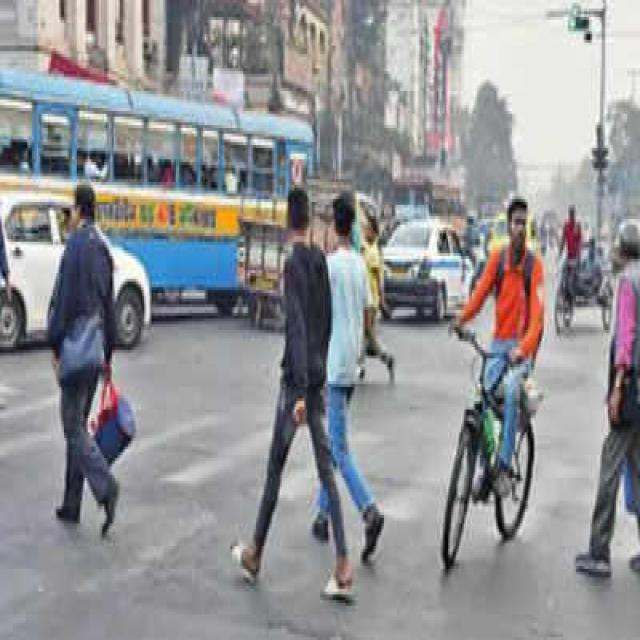bicycle: (441, 198, 545, 568)
bus: (0, 70, 314, 310)
car: (0, 194, 152, 348)
